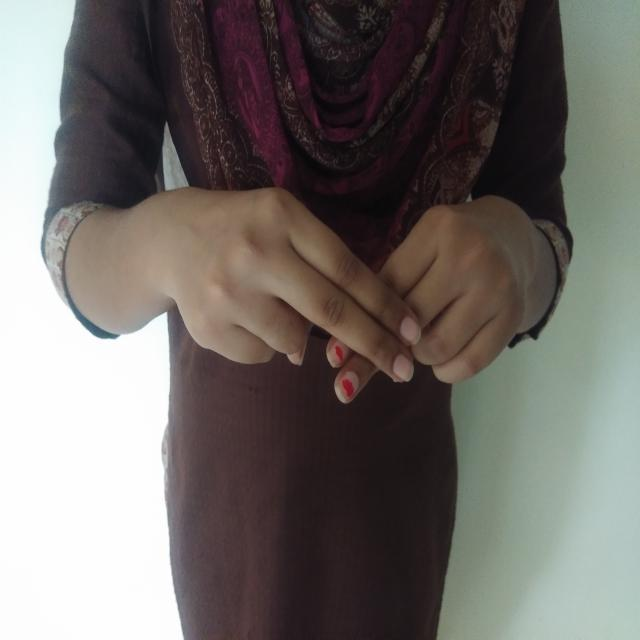F: (145, 174, 557, 418)
